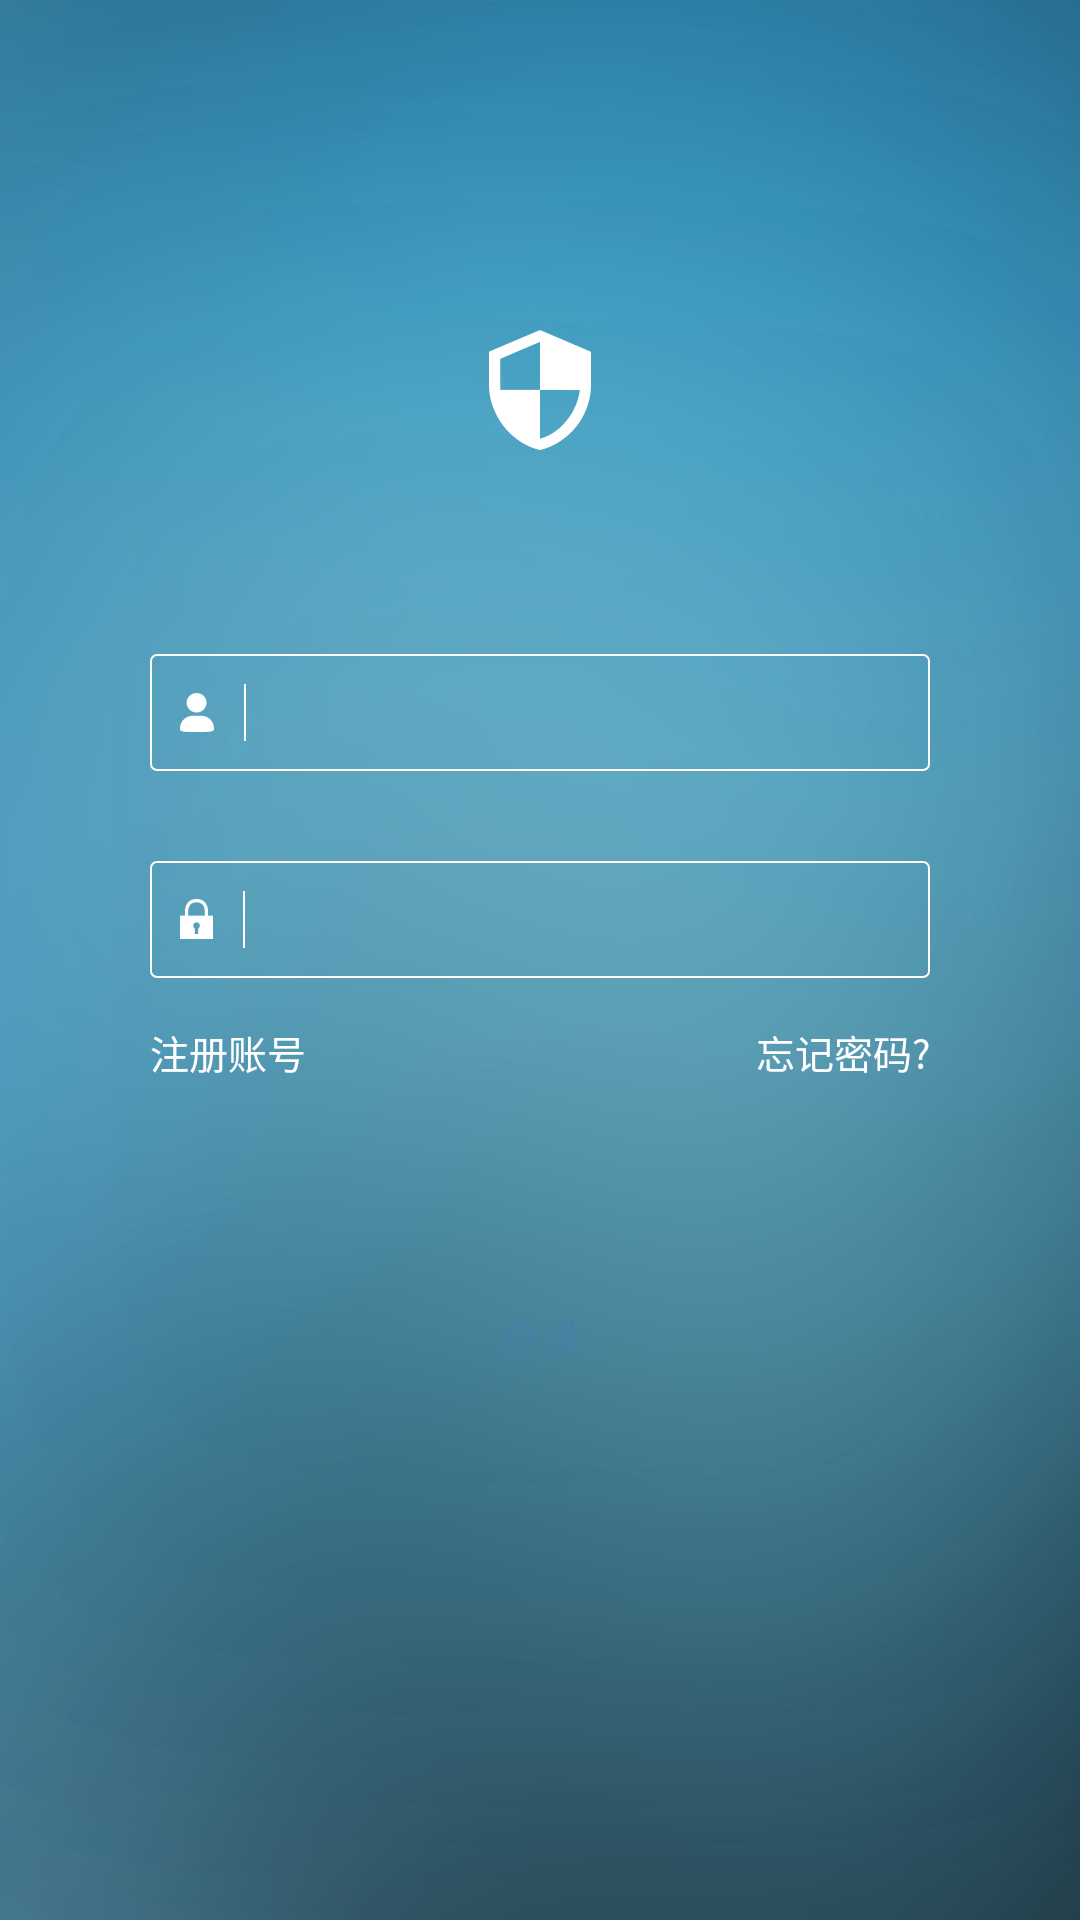

Icons on this 1080*1920 Android screen, each with the point to tap as [x,y]:
password: [196,919]
user: [197,712]
